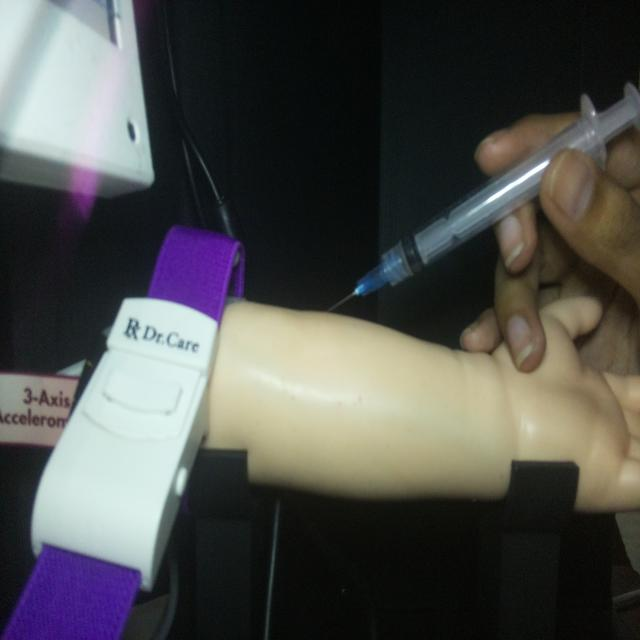27 degrees: (325, 79, 638, 314)
